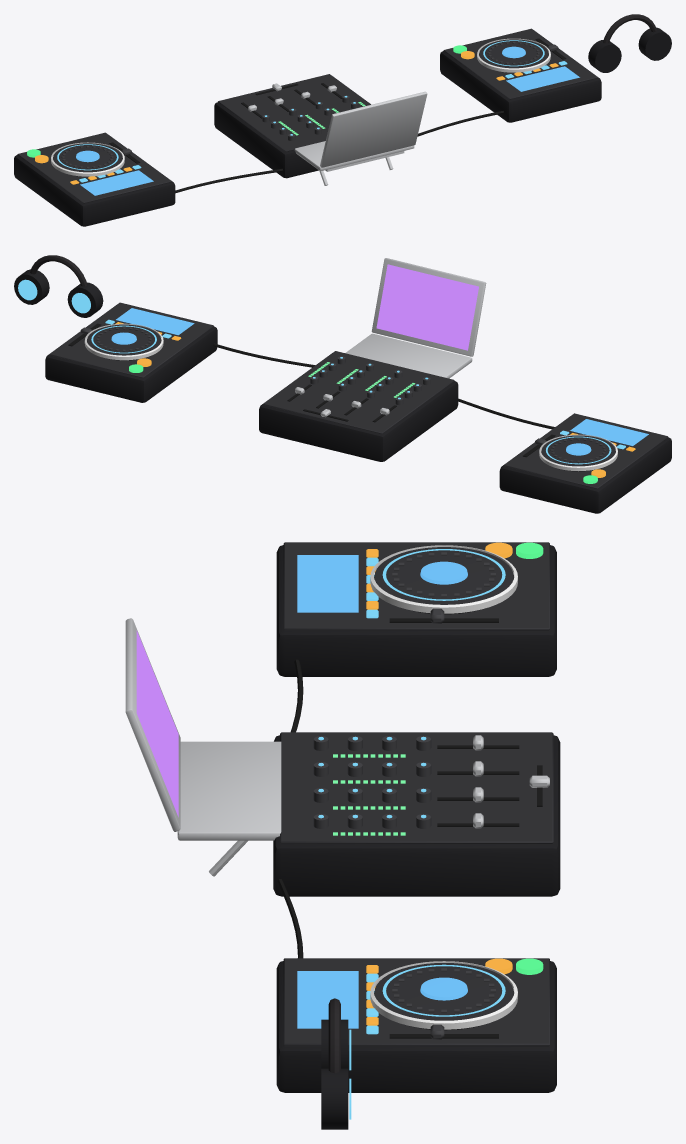
File: dj_gear.glb
The picture shows the model from 3 angles, top to bottom: view 1: azimuth 30°, elevation 25°; view 2: azimuth 150°, elevation 25°; view 3: azimuth 270°, elevation 25°; orthographic projection. The views are drawn at different scales.
Visible parts, largest first — view 1: mixer, deck_L, deck_R, laptop, headphones, jog_R, jog_L, cables; view 2: mixer, laptop, deck_L, deck_R, headphones, jog_L, jog_R, cables; view 3: mixer, deck_L, deck_R, laptop, jog_L, jog_R, headphones, cables, meters.
Part boxes in pixels (<box>): mixer: <box>214,74,370,178</box>; deck_L: <box>14,132,175,226</box>; deck_R: <box>440,28,601,122</box>; laptop: <box>294,91,427,185</box>; headphones: <box>588,14,671,72</box>; jog_R: <box>477,38,550,72</box>; jog_L: <box>51,142,124,176</box>; cables: <box>175,111,503,193</box>; mixer: <box>259,351,458,461</box>; laptop: <box>345,258,486,378</box>; deck_L: <box>499,413,671,513</box>; deck_R: <box>45,302,217,402</box>; headphones: <box>14,255,103,317</box>; jog_L: <box>539,434,617,471</box>; jog_R: <box>84,323,163,360</box>; cables: <box>213,343,554,429</box>; mixer: <box>273,732,560,896</box>; deck_L: <box>276,542,556,676</box>; deck_R: <box>276,958,556,1092</box>; laptop: <box>125,618,281,876</box>; jog_L: <box>370,545,517,614</box>; jog_R: <box>370,961,517,1030</box>; headphones: <box>321,998,351,1129</box>; cables: <box>277,659,303,958</box>; meters: <box>333,754,405,835</box>.
Size of the model in its own units: 2.03 by 0.2919 by 0.6361.
